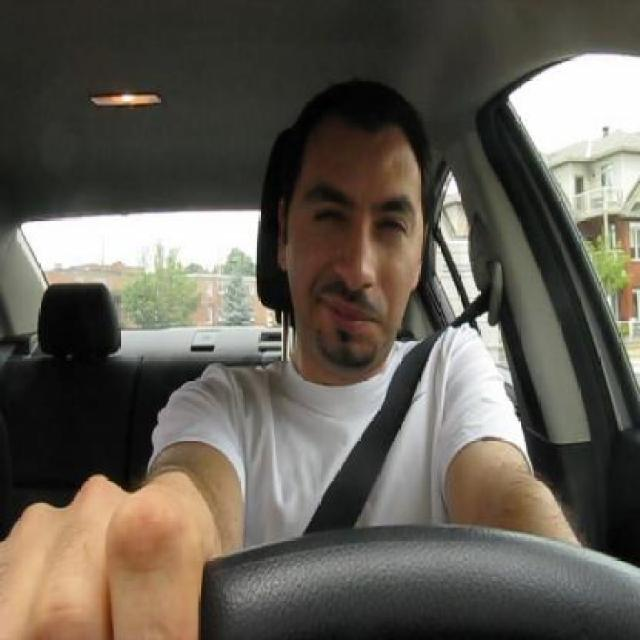drowsy: (314, 200, 348, 235)
